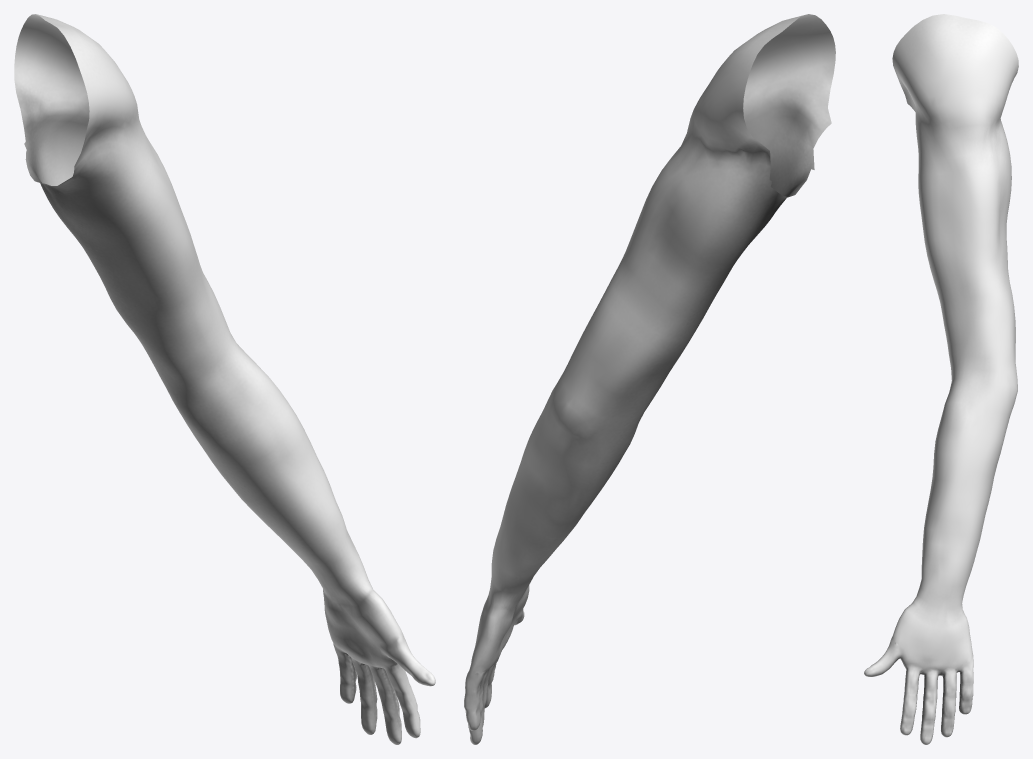
File: brazoIzq.obj
3 renders of one model, left to right at view 1: azimuth 30°, elevation 25°; view 2: azimuth 150°, elevation 25°; view 3: azimuth 270°, elevation 25°, orthographic. The views are drawn at different scales.
Visible parts, largest first — view 1: brazoIzq; view 2: brazoIzq; view 3: brazoIzq.
Part boxes in pixels (box(x1,y1,x2,y2)): brazoIzq: box(14, 14, 435, 744); brazoIzq: box(464, 14, 835, 744); brazoIzq: box(864, 14, 1018, 744).
Bounding box in the file's own units: 0.0355 × 0.0772 × 0.0178.
Materials: 1 (1 with a texture image).
